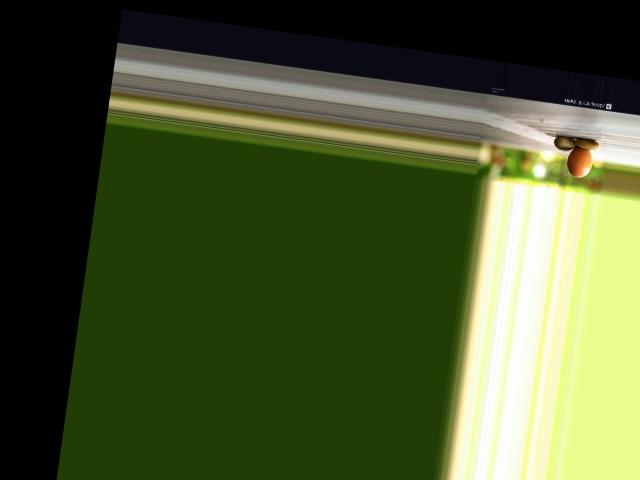egg: (564, 145, 594, 178)
